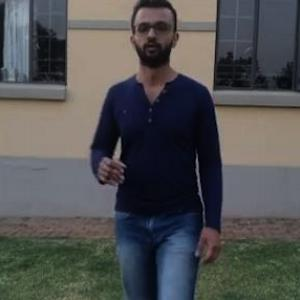follow: (105, 4, 231, 299)
